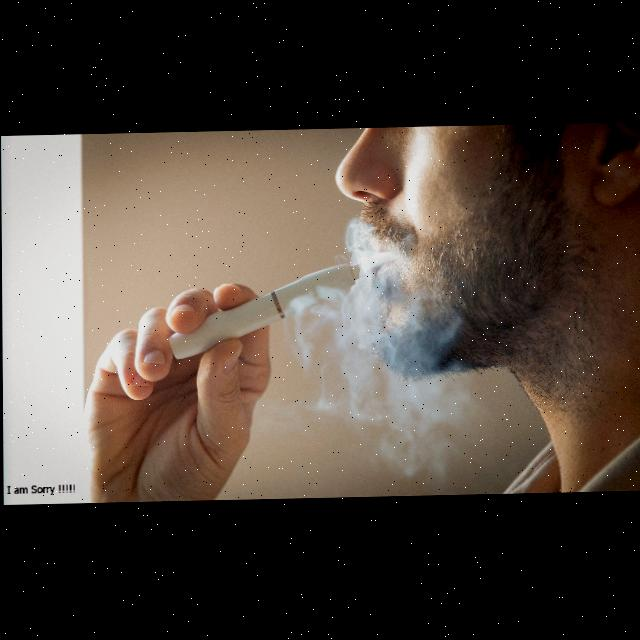vape: (167, 252, 391, 361)
